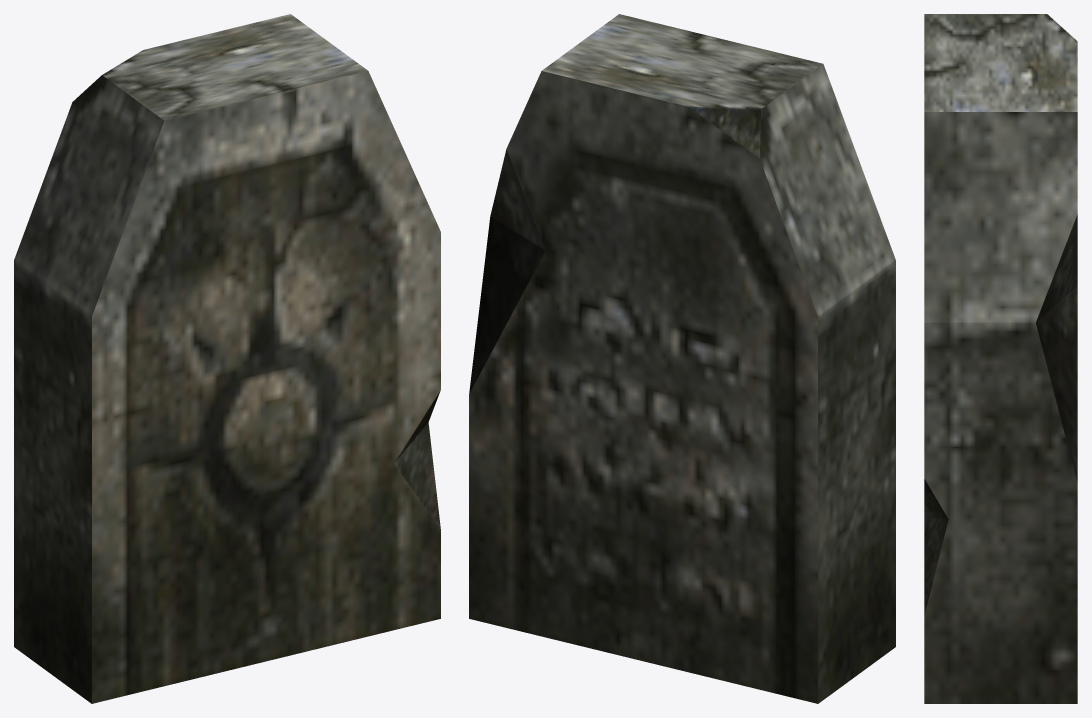
3 views of the same model, side by side, from view 1: azimuth 30°, elevation 25°; view 2: azimuth 150°, elevation 25°; view 3: azimuth 270°, elevation 25° (orthographic).
Visible parts, largest first — view 1: SMDImport; view 2: SMDImport; view 3: SMDImport.
Part boxes in pixels (left/top/right/bottom): SMDImport: left=14, top=14, right=440, bottom=703; SMDImport: left=469, top=14, right=895, bottom=703; SMDImport: left=924, top=14, right=1077, bottom=703.
Size of the model in its own units: 139 by 216 by 53.74.
